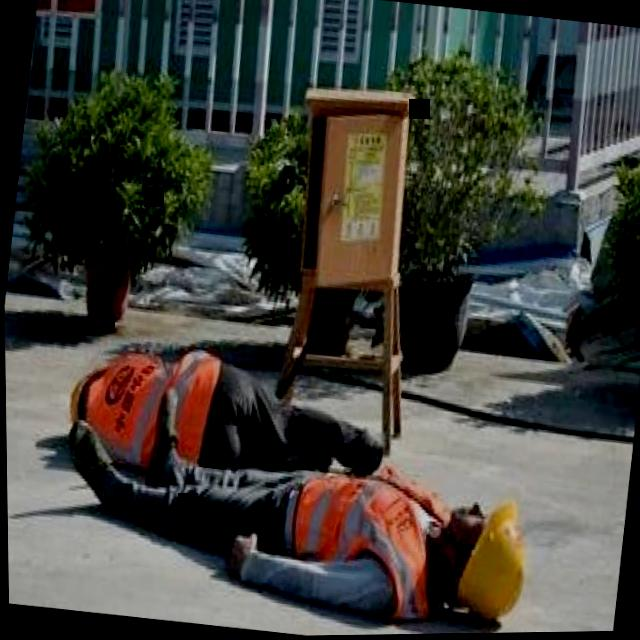Fall-Detected: (52, 306, 389, 522)
